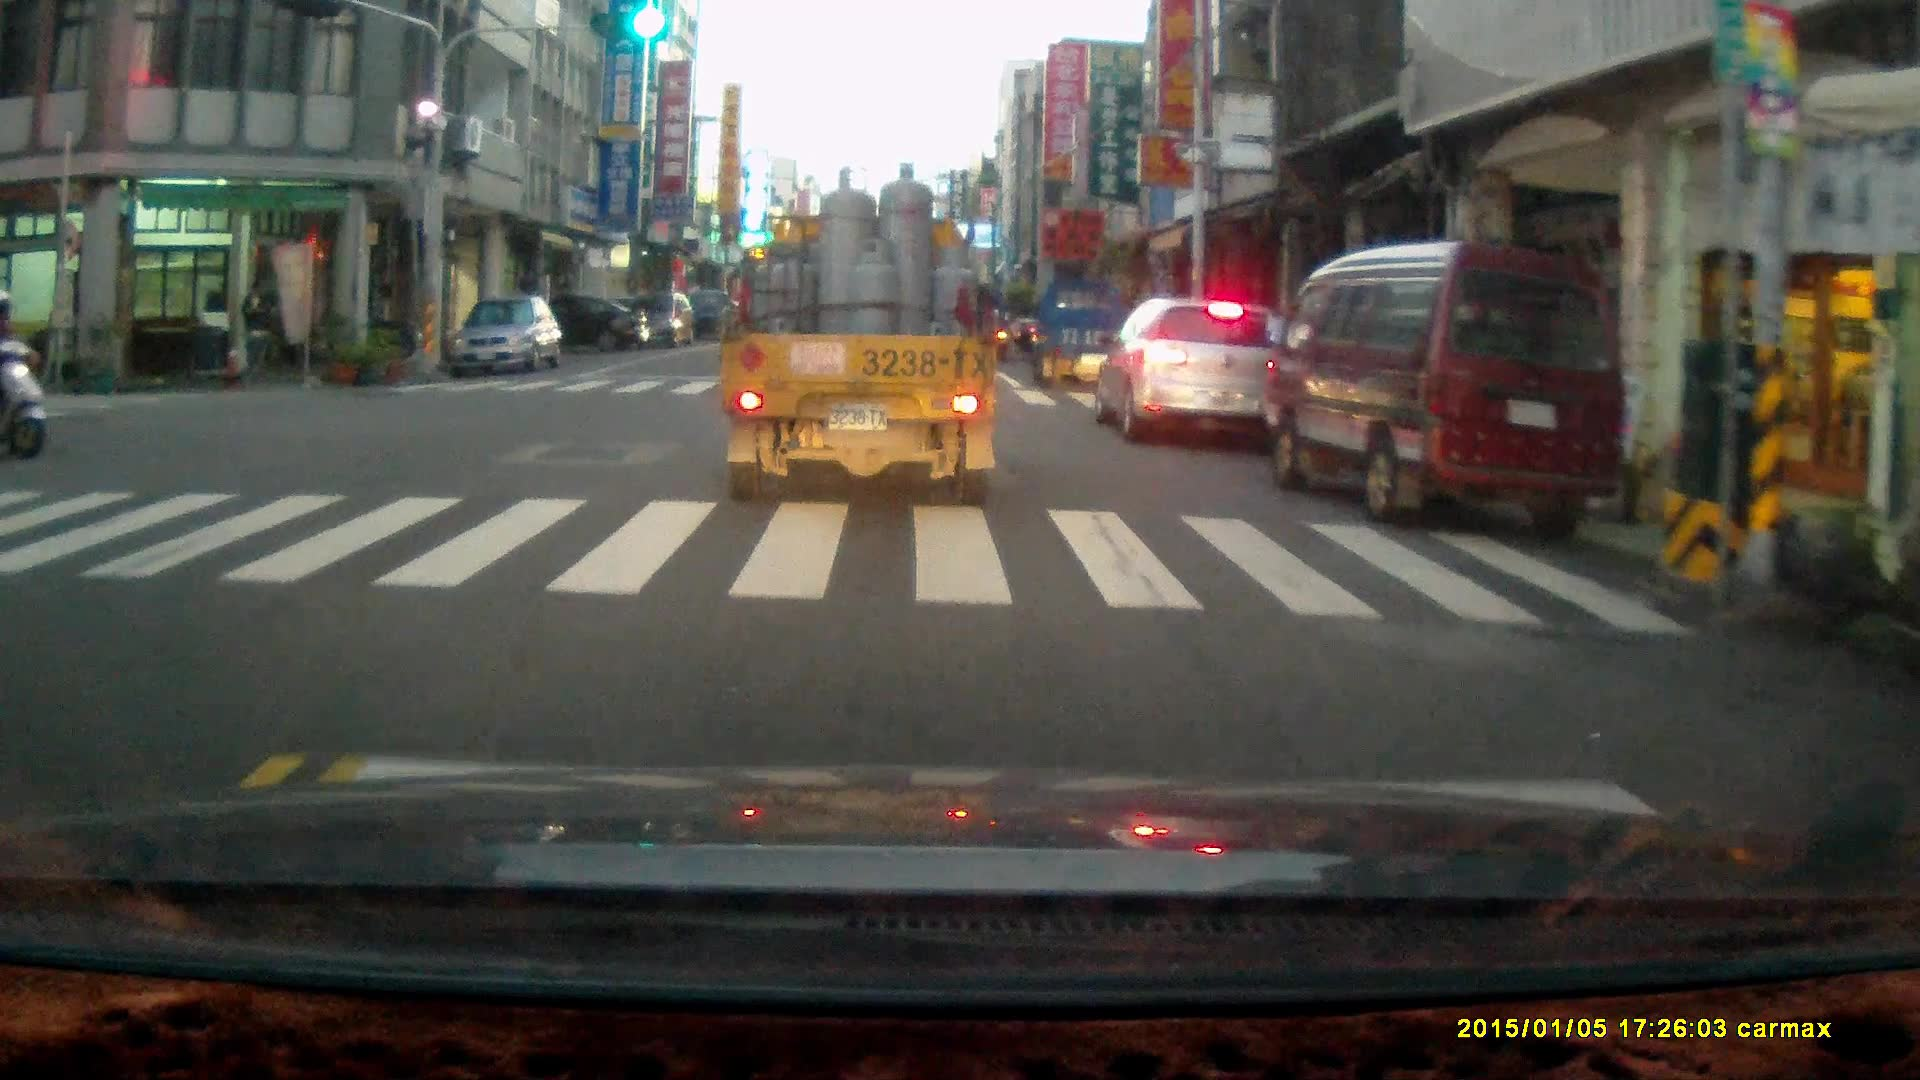pedestrian: (238, 275, 272, 386)
rider: (0, 284, 49, 464)
vehicle: (1268, 239, 1624, 538), (723, 162, 998, 514), (1095, 289, 1295, 453), (1034, 275, 1145, 397), (498, 296, 644, 360), (454, 298, 565, 382), (603, 292, 695, 350)
